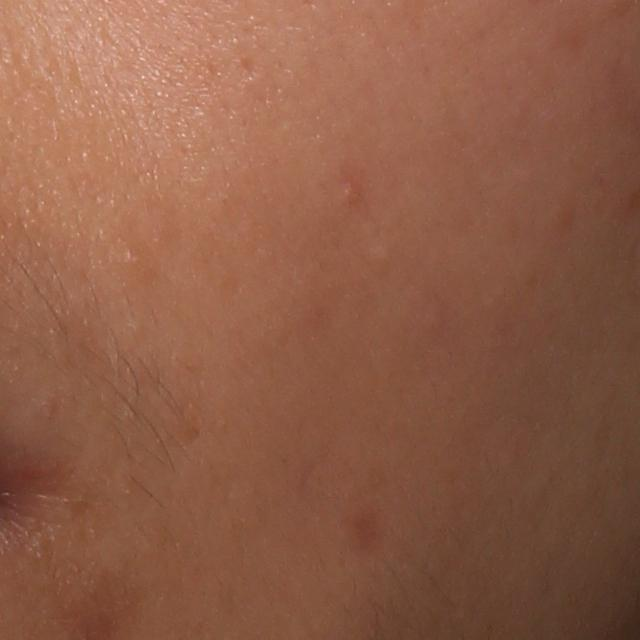comedo: (374, 244, 397, 267)
